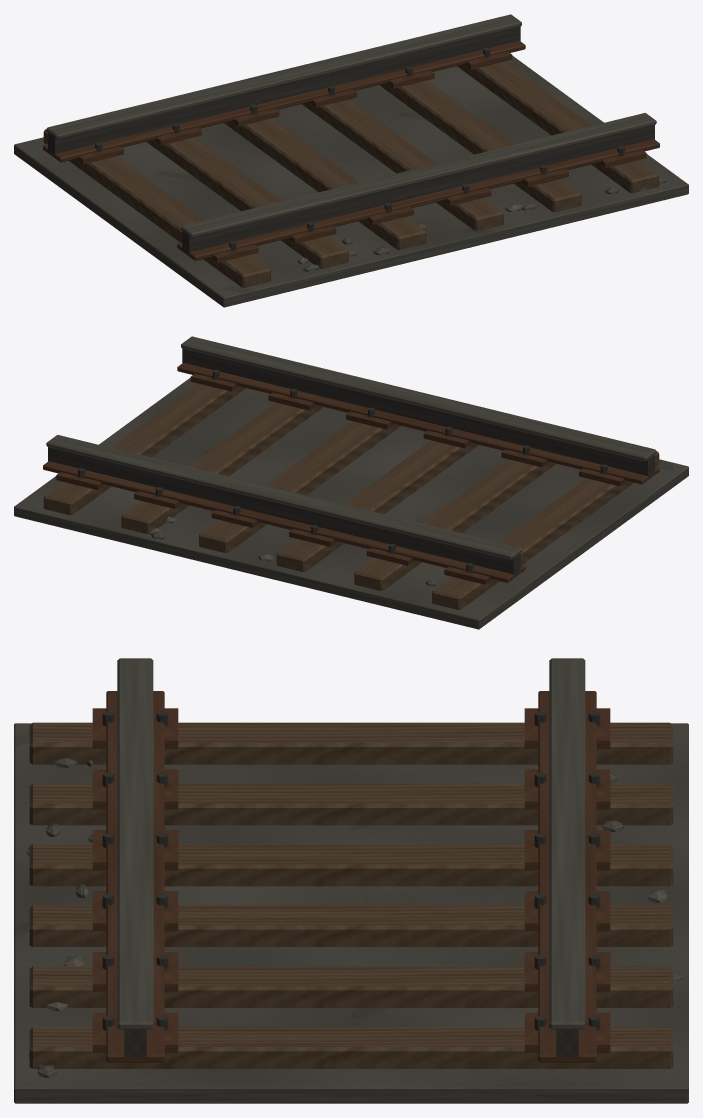
Rendered from env_rail_track.fbx.
The picture shows the model from 3 angles, top to bottom: view 1: azimuth 30°, elevation 25°; view 2: azimuth 150°, elevation 25°; view 3: azimuth 270°, elevation 25°; orthographic projection. The views are drawn at different scales.
Parts seen in each view (by area): view 1: env_rail_track; view 2: env_rail_track; view 3: env_rail_track.
Boxes of the visible parts, x1,y1,x2,y2 form: env_rail_track: (14,14,688,307); env_rail_track: (14,336,688,629); env_rail_track: (14,658,688,1103).
Size of the model in its own units: 192 by 150 by 20.
1 material, 1 textured.
